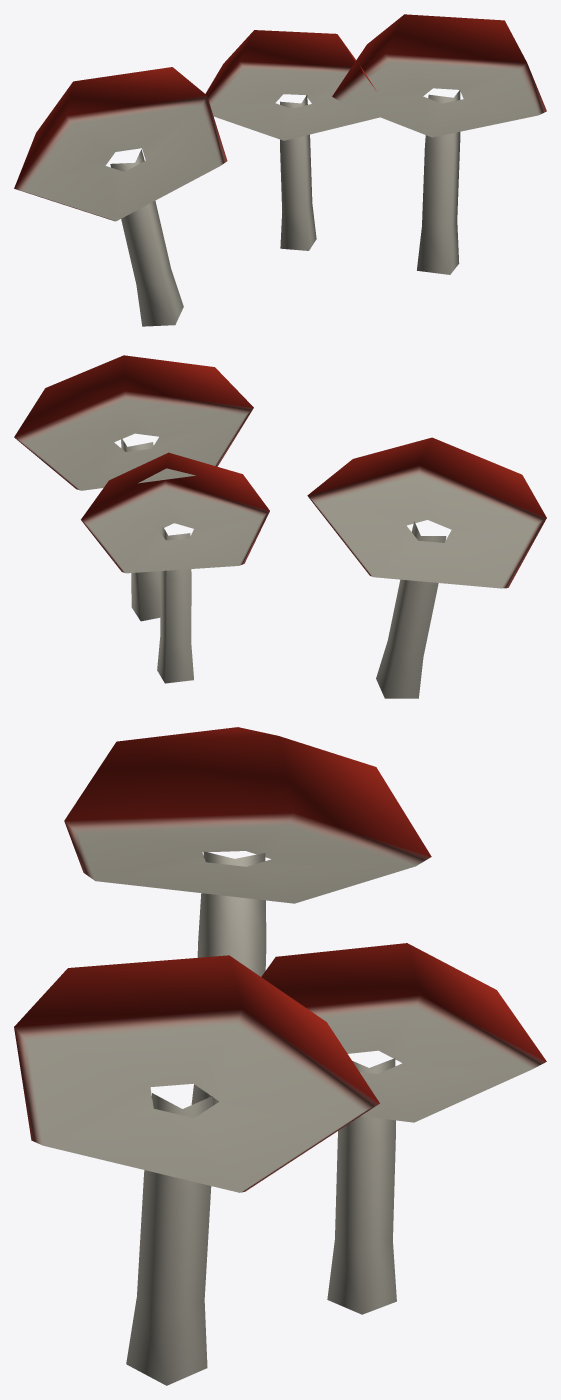
File: mushroom-fly-agaric-b.lod2.glb
3 views of the same model, one above another, from view 1: azimuth 30°, elevation 25°; view 2: azimuth 150°, elevation 25°; view 3: azimuth 270°, elevation 25° (orthographic). The views are drawn at different scales.
Parts seen in each view (by area): view 1: mushroom-fly-agaric-b.lod2; view 2: mushroom-fly-agaric-b.lod2; view 3: mushroom-fly-agaric-b.lod2.
Boxes of the visible parts, x1,y1,x2,y2 form: mushroom-fly-agaric-b.lod2: (14, 14, 546, 326); mushroom-fly-agaric-b.lod2: (14, 355, 546, 698); mushroom-fly-agaric-b.lod2: (14, 727, 546, 1385).
Size of the model in its own units: 0.3382 by 0.1575 by 0.1884.
